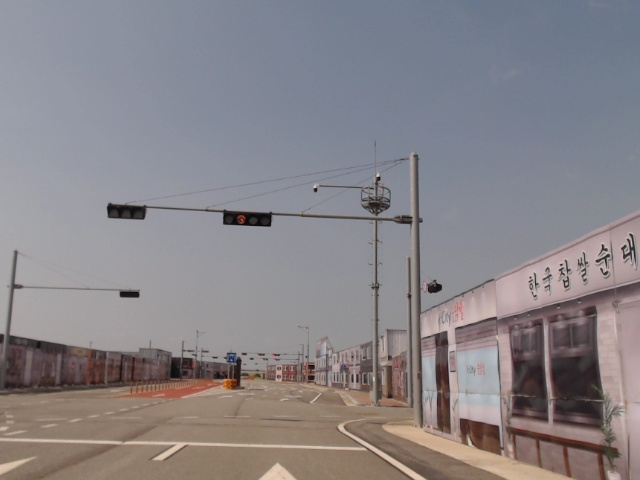orange_4: (222, 209, 273, 228)
